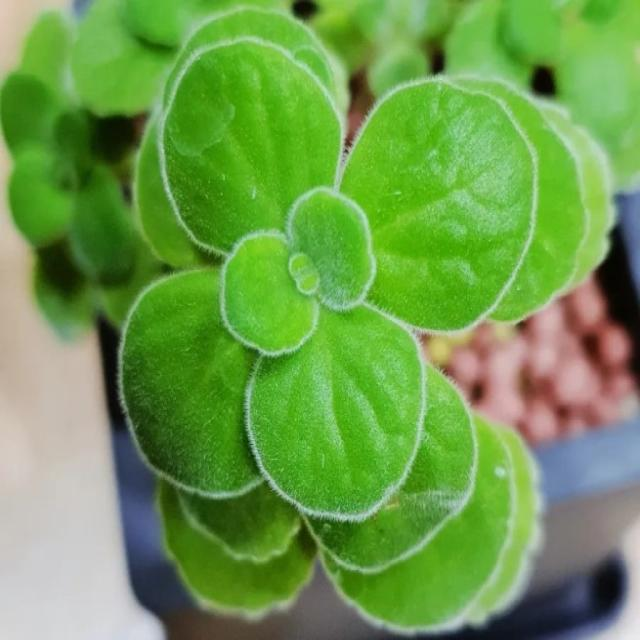Vicks: (120, 8, 611, 630)
